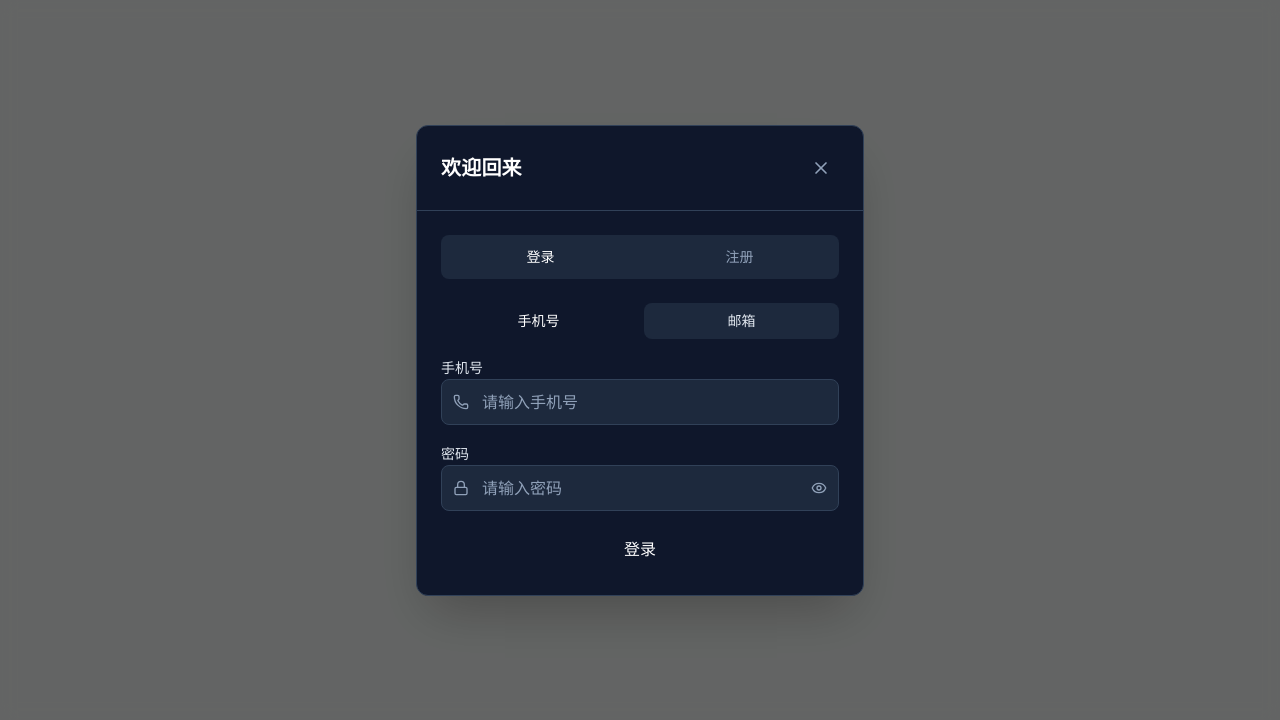
Test: AuthModal › should switch to register mode when register tab is clicked
Click the button "注册".
click(740, 256)  # box [644, 238, 835, 274]
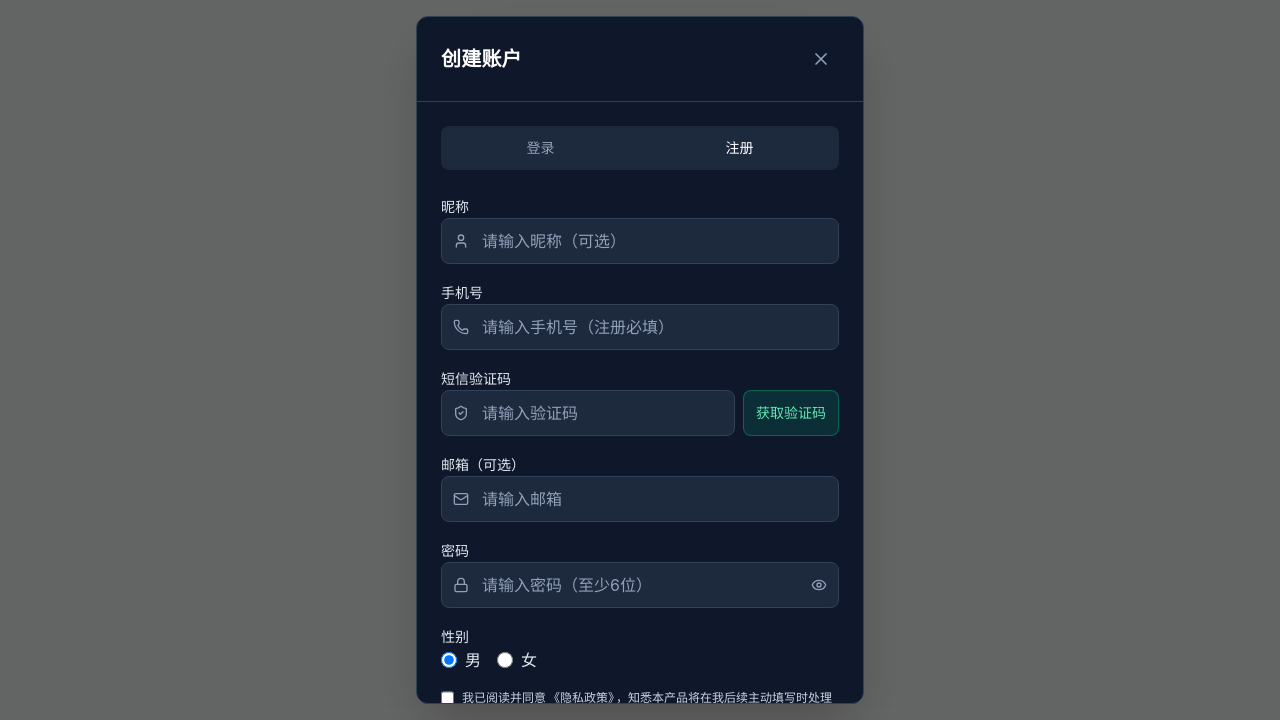
Expected: the heading "创建账户" is shown, [441, 45, 522, 73]
